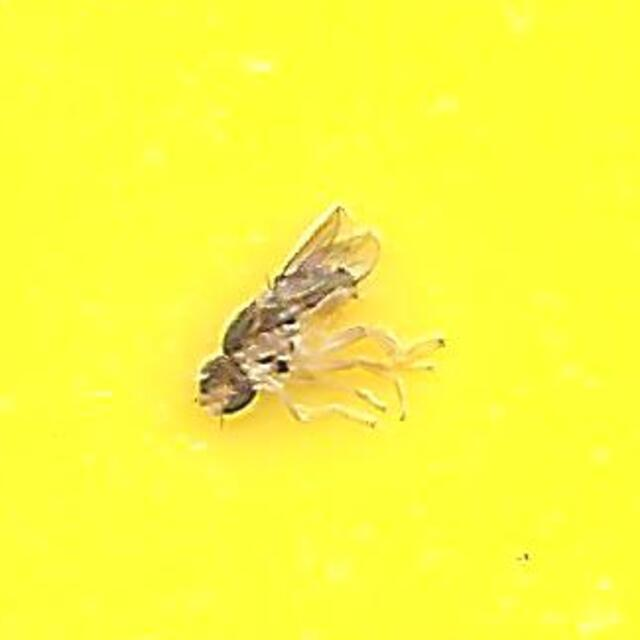Brachycera: (197, 211, 443, 429)
